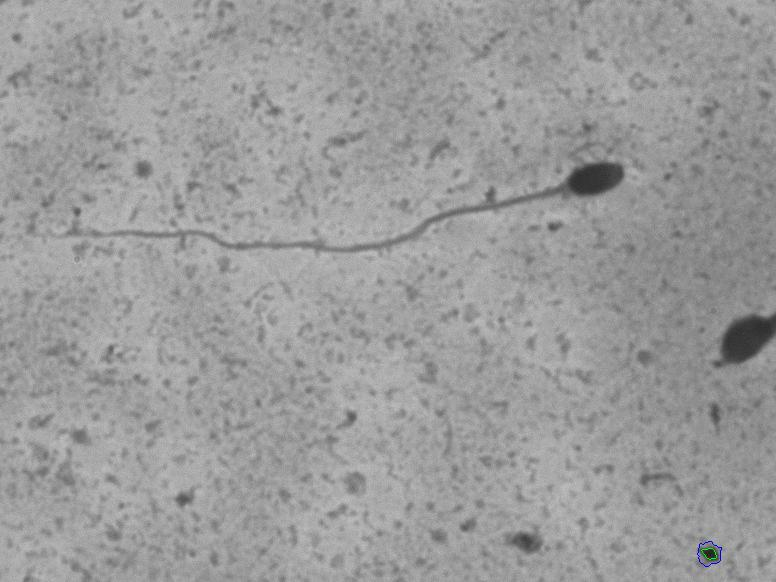Normal: (35, 139, 676, 290)
